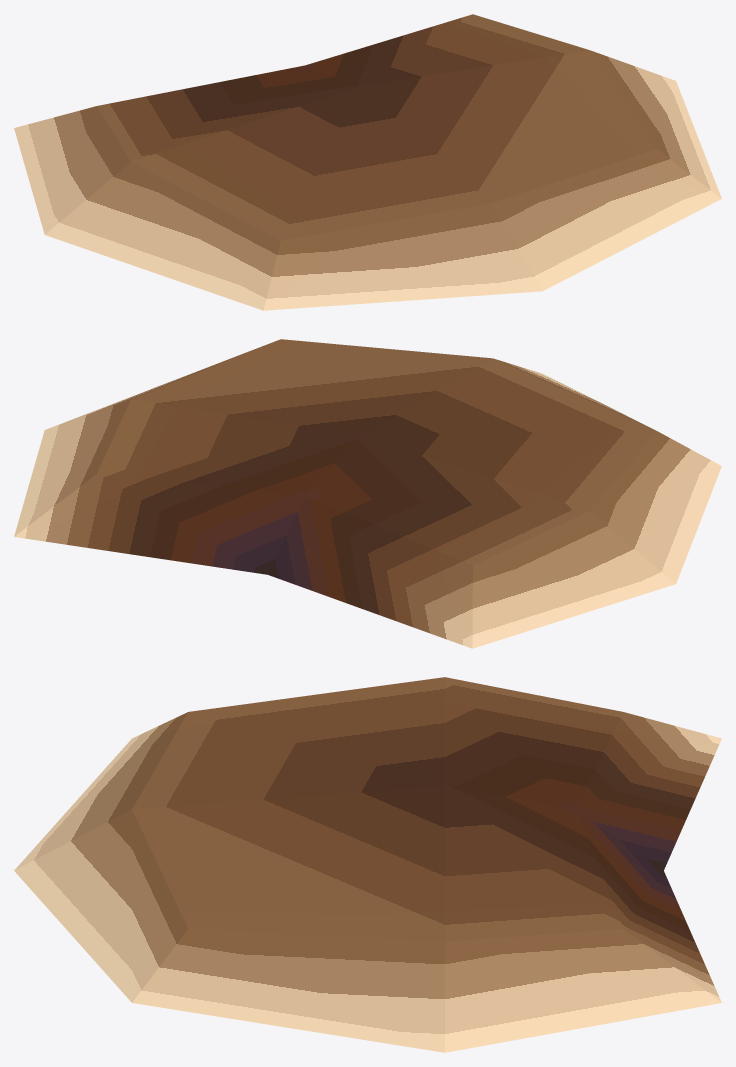
File: small_TurkeyTail.glb
3 renders of one model, top to bottom at view 1: azimuth 30°, elevation 25°; view 2: azimuth 150°, elevation 25°; view 3: azimuth 270°, elevation 25°, orthographic. The views are drawn at different scales.
Visible parts, largest first — view 1: Turkey_smallfull; view 2: Turkey_smallfull; view 3: Turkey_smallfull.
Boxes of the visible parts, x1,y1,x2,y2 form: Turkey_smallfull: [14, 14, 721, 310]; Turkey_smallfull: [14, 339, 721, 648]; Turkey_smallfull: [14, 677, 721, 1052].
Bounding box in the file's own units: 1.68 × 0.306 × 1.38.
1 material, 1 textured.
